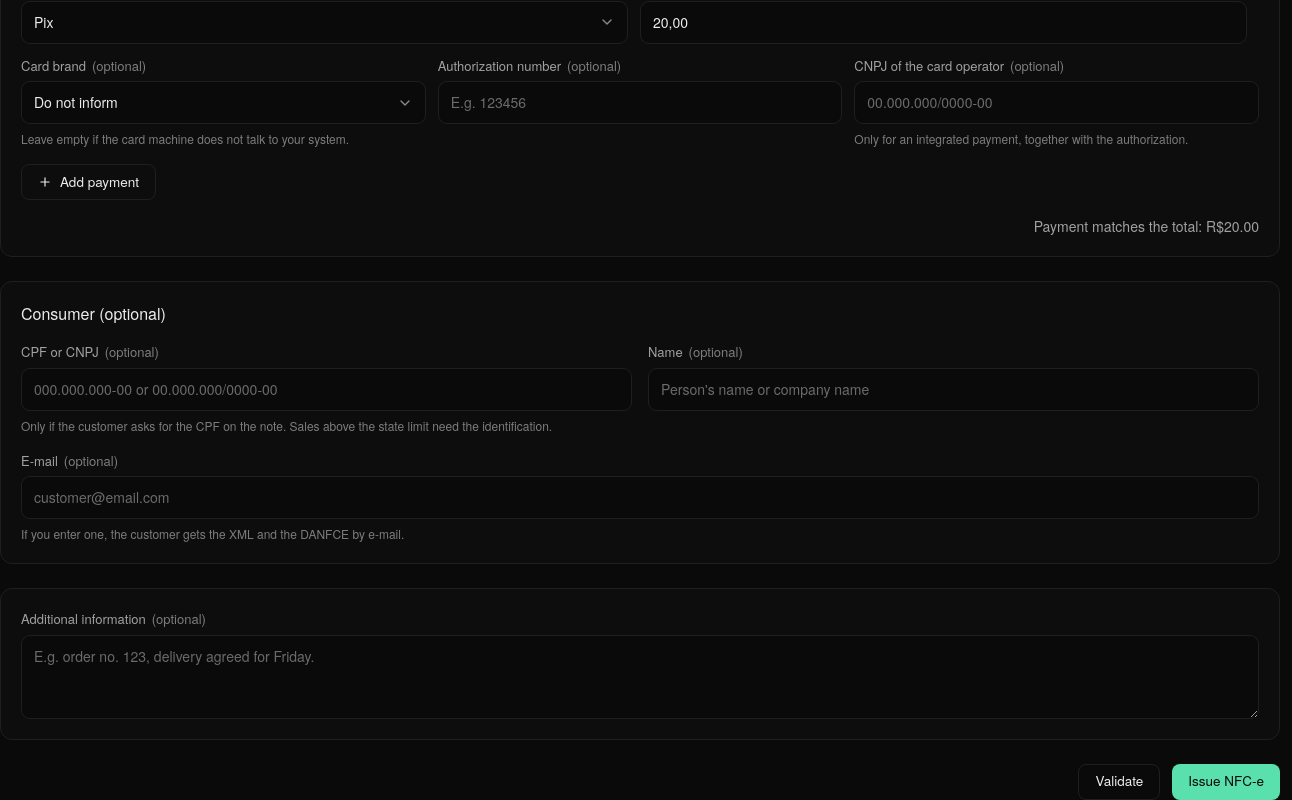
Test: NfceForm › shows the translated reason of the API (consumer id above the limit)
(page scrolled)
Click the button "Issue NFC-e" at [1226, 782], box x1=1172 y1=764 x2=1280 y2=799
(page scrolled)
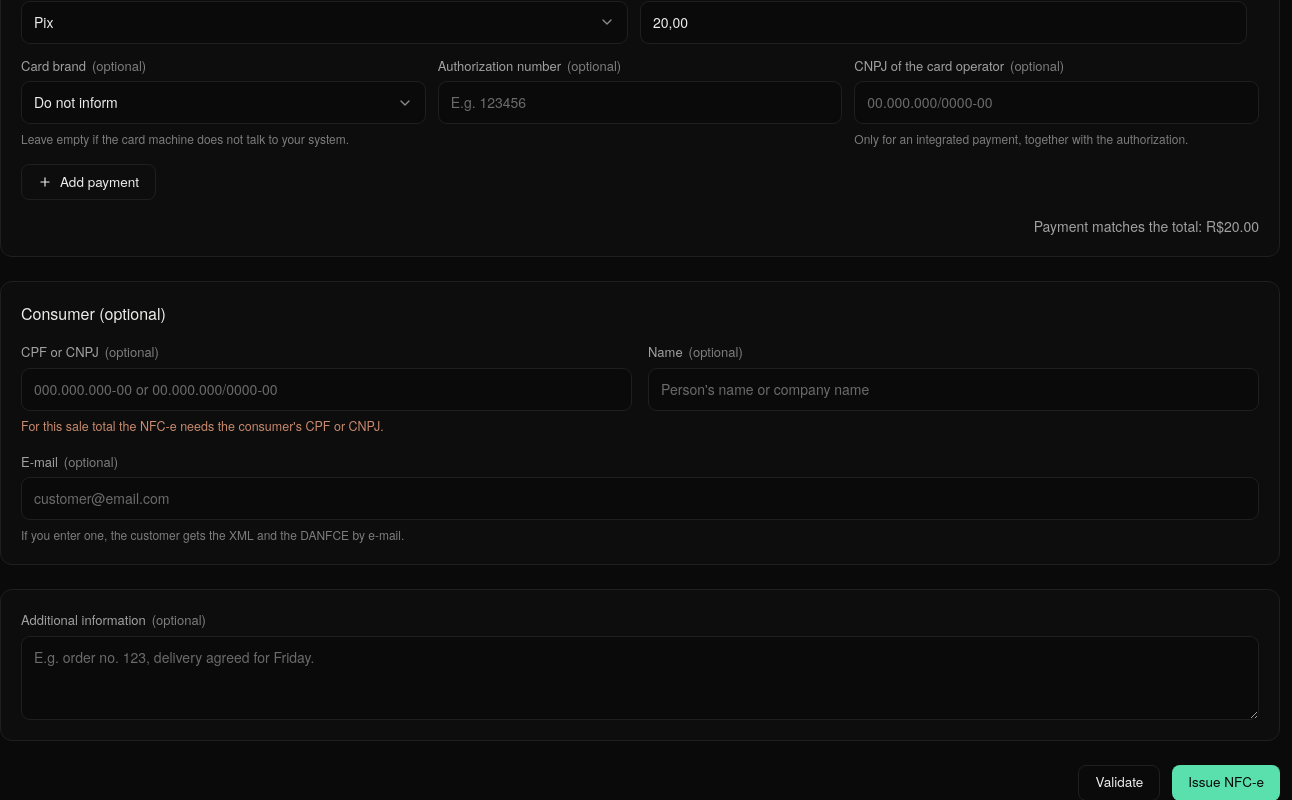
Check: the text "For this sale total the NFC-e needs the consumer's CPF or CNPJ." is shown, box x1=21 y1=417 x2=384 y2=435
